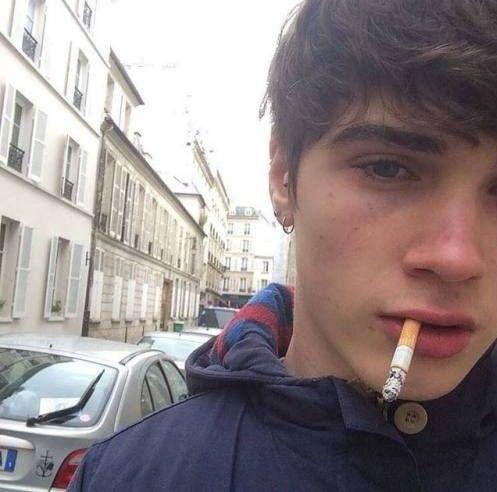cigarette: (382, 317, 423, 404)
